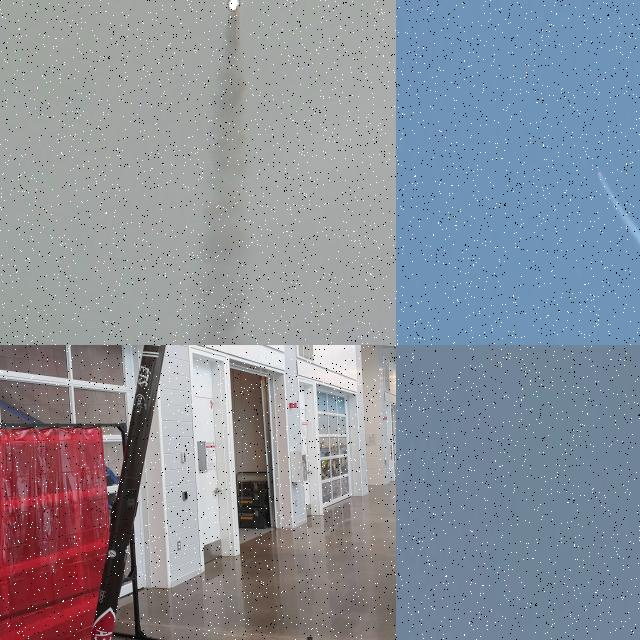Rocket: (91, 345, 166, 640), (598, 170, 603, 179)
